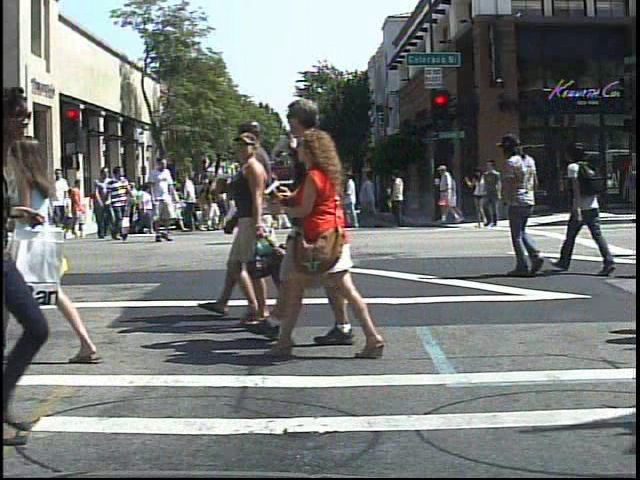person: (257, 91, 381, 345), (279, 118, 387, 357), (4, 119, 106, 371), (558, 131, 623, 280), (498, 126, 555, 282), (145, 159, 181, 245), (104, 161, 134, 242), (45, 166, 75, 245), (89, 164, 115, 242), (437, 161, 462, 225), (22, 183, 46, 243), (90, 183, 110, 221)
